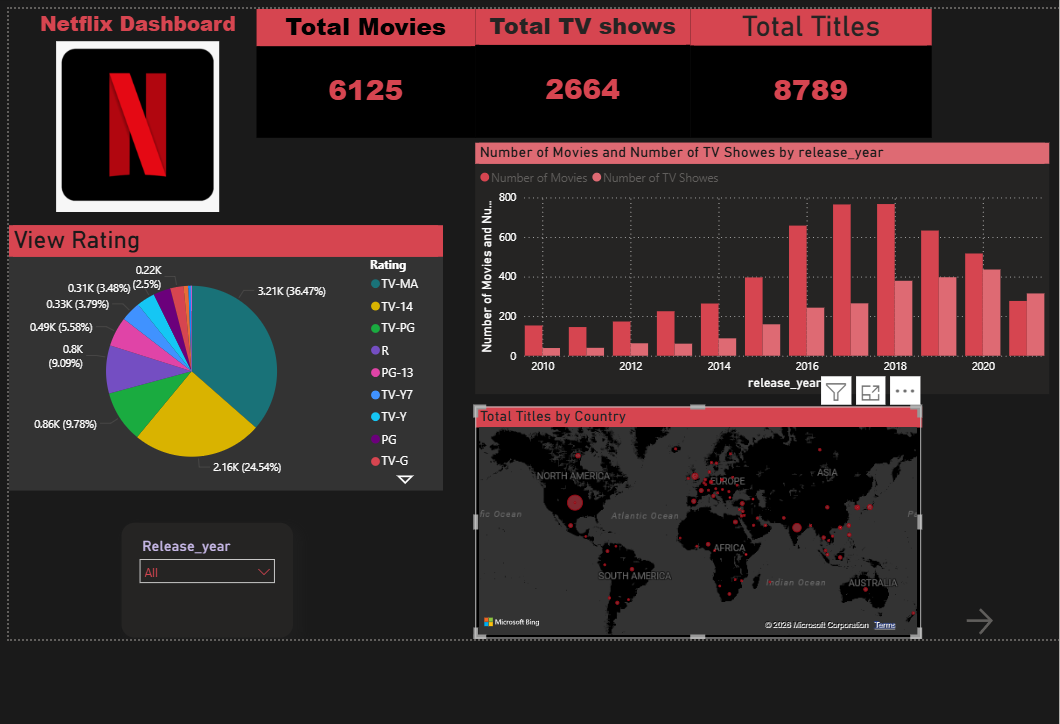

This screenshot's page, from the dashboard's own definition file:
{"tool":"powerbi","page":{"name":"Page 1","canvas":[1280,720],"ordinal":0},"visuals":[{"type":"image","title":"Netflix Dashboard","box":[11,0,271.7,231.9],"z":0},{"type":"card","title":"Total Movies","fields":{"Values":["Class 10 - netflix_titles dataset.Number of Movies"]},"box":[336.3,0,243.3,152.9],"z":1000},{"type":"card","title":"Total TV shows","fields":{"Values":["Class 10 - netflix_titles dataset.Number of TV Showes"]},"box":[616.3,0,254.3,146.7],"z":2000},{"type":"card","title":"Total Titles","fields":{"Values":["Class 10 - netflix_titles dataset.Total Titles"]},"box":[896.3,0,258,146.7],"z":3000},{"type":"clusteredColumnChart","fields":{"Y":["Class 10 - netflix_titles dataset.Number of Movies","Class 10 - netflix_titles dataset.Number of TV Showes"],"Category":["Class 10 - netflix_titles dataset.release_year"]},"box":[532.9,152.9,655.7,287.1],"z":4000},{"type":"slicer","fields":{"Values":["Class 10 - netflix_titles dataset.release_year"]},"box":[128.6,587.1,195.7,131.4],"z":5000},{"type":"map","title":"Total Titles by Country","fields":{"Category":["Class 10 - netflix_titles dataset.country"],"Size":["CountNonNull(Class 10 - netflix_titles dataset.title)"]},"box":[532.9,454.3,510,265.7],"z":6000},{"type":"pieChart","title":"View Rating","fields":{"Category":["Class 10 - netflix_titles dataset.rating"],"Y":["CountNonNull(Class 10 - netflix_titles dataset.show_id)"]},"box":[0,247.1,495.7,302.9],"z":7000},{"type":"actionButton","box":[1088.6,680,100,40],"z":8000}]}

Visuals, with their boxes on the page's 1280x720 design canvas (x1, y1, x2, y2). These are canvas units, not pixel positions in the 1060x724 screenshot, which may show the page scaled, cropped or inside an application window:
"Netflix Dashboard" image: (left=11, top=0, right=283, bottom=232)
"Total Movies" card: (left=336, top=0, right=580, bottom=153)
"Total TV shows" card: (left=616, top=0, right=871, bottom=147)
"Total Titles" card: (left=896, top=0, right=1154, bottom=147)
clusteredColumnChart - Class 10 - netflix_titles dataset.Number of Movies x Class 10 - netflix_titles dataset.Number of TV Showes: (left=533, top=153, right=1189, bottom=440)
slicer - Class 10 - netflix_titles dataset.release_year: (left=129, top=587, right=324, bottom=718)
"Total Titles by Country" map: (left=533, top=454, right=1043, bottom=720)
"View Rating" pieChart: (left=0, top=247, right=496, bottom=550)
actionButton: (left=1089, top=680, right=1189, bottom=720)
